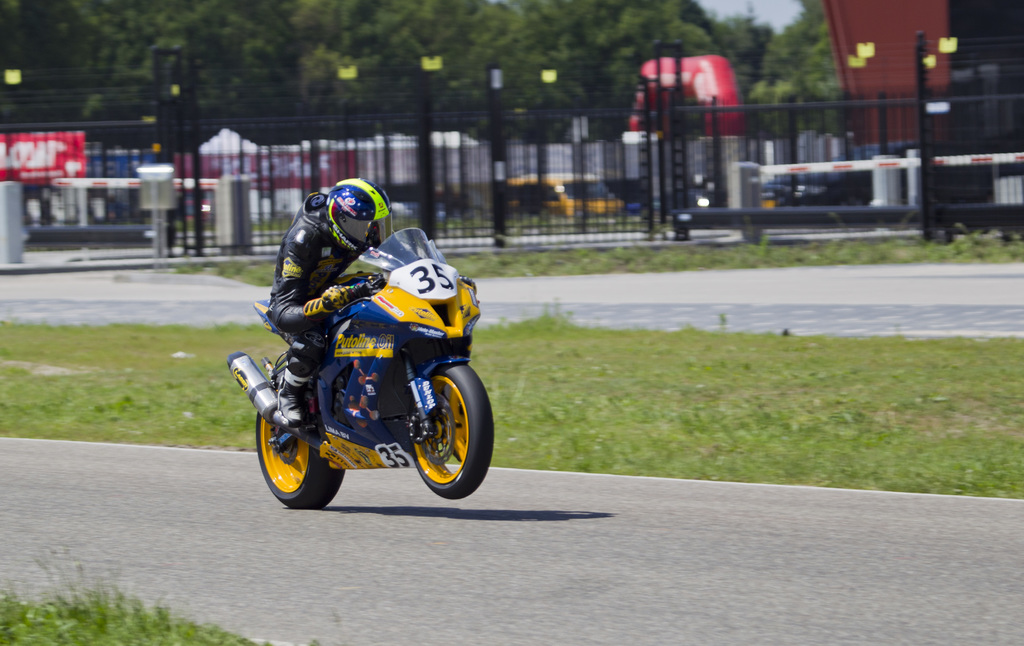Person: (269, 177, 396, 426)
